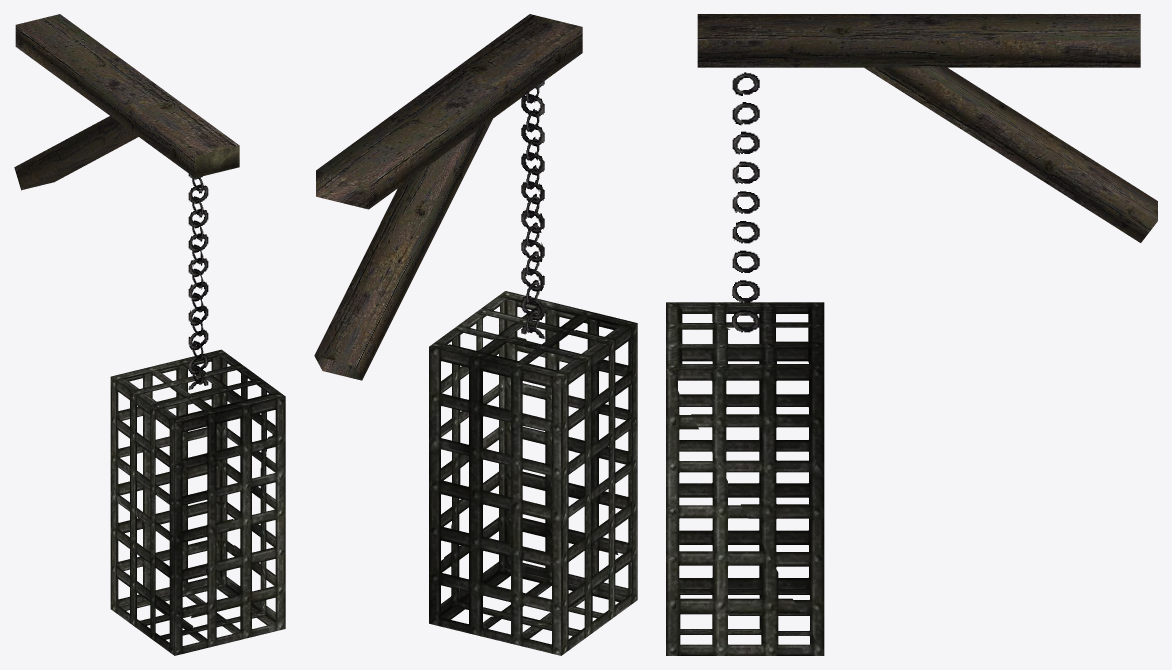
File: OC_LOB_CAGE.glb
3 renders of one model, left to right at view 1: azimuth 30°, elevation 25°; view 2: azimuth 150°, elevation 25°; view 3: azimuth 270°, elevation 25°, orthographic. The views are drawn at different scales.
Parts seen in each view (by area): view 1: Mesh; view 2: Mesh; view 3: Mesh.
Part boxes in pixels (x1,y1,x2,y2): Mesh: (14, 14, 285, 655); Mesh: (314, 14, 637, 655); Mesh: (666, 14, 1157, 655).
Bounding box in the file's own units: 1 × 4.15 × 3.11.
Materials: 4 (4 with a texture image).
